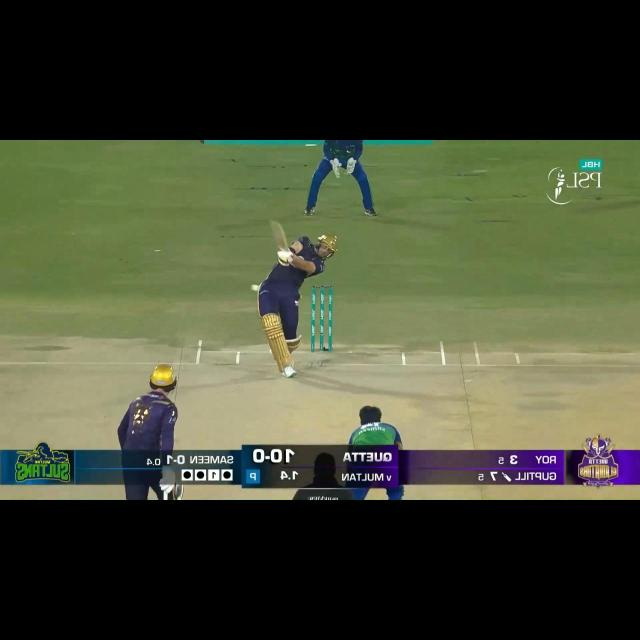bat: (269, 219, 289, 252)
toe: (270, 222, 283, 230)
